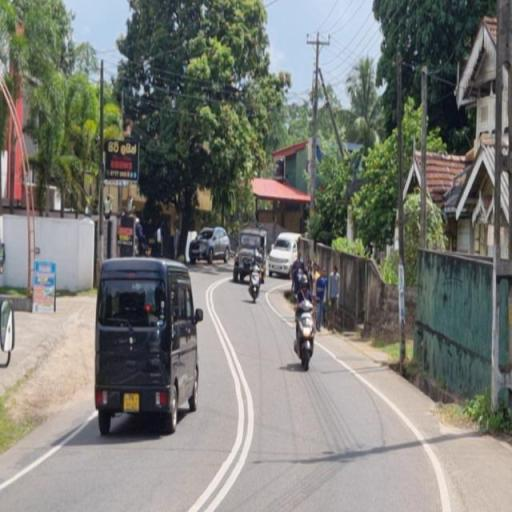double_white_line: (197, 280, 256, 511), (0, 411, 91, 491)
